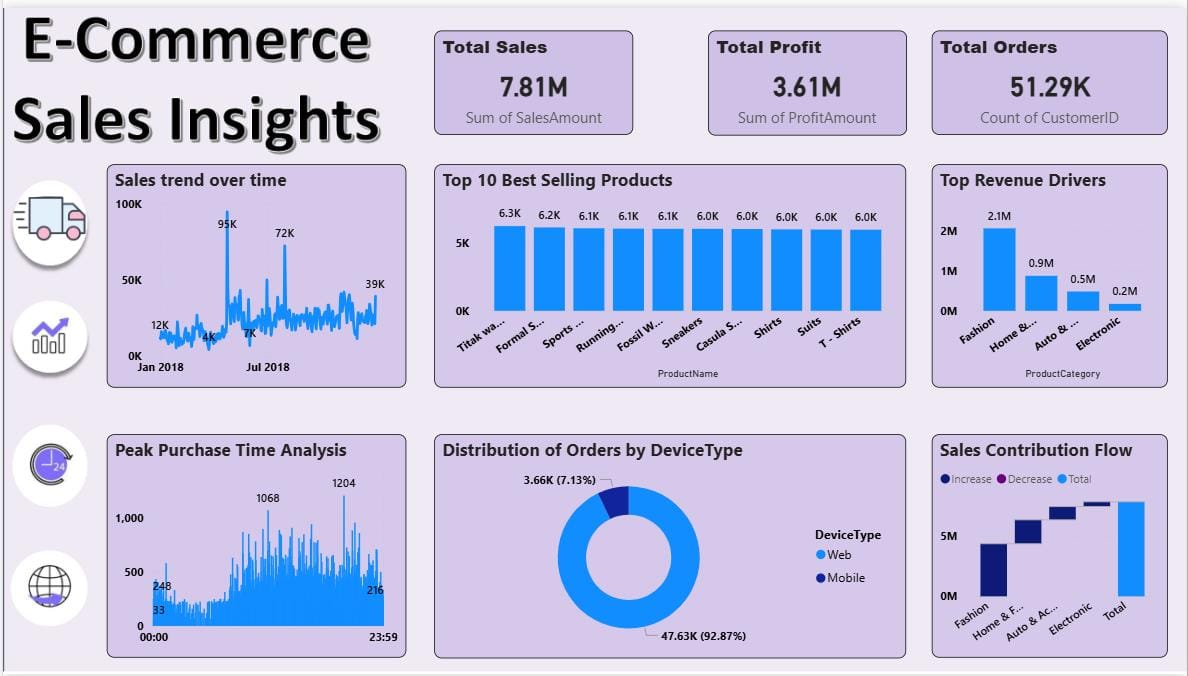

The page's visual inventory and layout, read from the dashboard file:
{"tool":"powerbi","page":{"name":"Page 1","canvas":[1280,720],"ordinal":0},"visuals":[{"type":"card","title":"Total Sales","fields":{"Values":["Sum(E-commerce Dataset(1).SalesAmount)"]},"box":[466.6,24.7,215.4,112.5],"z":0},{"type":"card","title":"Total Profit","fields":{"Values":["Sum(E-commerce Dataset(1).ProfitAmount)"]},"box":[762.5,24.3,215,113.6],"z":1000},{"type":"card","title":"Total Orders","fields":{"Values":["CountNonNull(E-commerce Dataset(1).CustomerID)"]},"box":[1004.5,24.7,255.2,112.5],"z":2000},{"type":"lineChart","title":"Sales trend over time","fields":{"Y":["Sum(E-commerce Dataset(1).SalesAmount)"],"Category":["E-commerce Dataset(1).OrderDate.Variation.Date Hierarchy.Year","E-commerce Dataset(1).OrderDate.Variation.Date Hierarchy.Quarter","E-commerce Dataset(1).OrderDate.Variation.Date Hierarchy.Month","E-commerce Dataset(1).OrderDate.Variation.Date Hierarchy.Day"]},"box":[112.5,168.8,323.8,241.5],"z":3000},{"type":"columnChart","title":"Peak Purchase Time Analysis","fields":{"Category":["E-commerce Dataset(1).Time"],"Y":["Sum(E-commerce Dataset(1).SalesAmount)"]},"box":[112.5,461.1,323.8,241.5],"z":4000},{"type":"columnChart","title":"Top 10 Best Selling Products","fields":{"Category":["E-commerce Dataset(1).ProductName"],"Y":["E-commerce Dataset(1).Quantity"]},"box":[466.6,168.8,510.5,241.5],"z":5000},{"type":"columnChart","title":"Top Revenue Drivers","fields":{"Category":["E-commerce Dataset(1).ProductCategory"],"Y":["Sum(E-commerce Dataset(1).ProfitAmount)"]},"box":[1004.5,168.8,255.2,241.5],"z":6000},{"type":"waterfallChart","title":"Sales Contribution Flow","fields":{"Category":["E-commerce Dataset(1).ProductCategory"],"Y":["E-commerce Dataset(1).SumSales"]},"box":[1004.5,461.1,255.2,241.5],"z":7000},{"type":"donutChart","title":"Distribution of Orders by DeviceType","fields":{"Category":["E-commerce Dataset(1).DeviceType"],"Y":["CountNonNull(E-commerce Dataset(1).CustomerID)"]},"box":[467,461,510,242],"z":8000}]}

Visuals, with their boxes in screenshot pixels (x1, y1, x2, y2), scaled from the page's 1280x720 canvas onto the 1188x676 screenshot:
"Total Sales" card: 433, 23, 633, 129
"Total Profit" card: 708, 23, 907, 129
"Total Orders" card: 932, 23, 1169, 129
"Sales trend over time" lineChart: 104, 158, 405, 385
"Peak Purchase Time Analysis" columnChart: 104, 433, 405, 660
"Top 10 Best Selling Products" columnChart: 433, 158, 907, 385
"Top Revenue Drivers" columnChart: 932, 158, 1169, 385
"Sales Contribution Flow" waterfallChart: 932, 433, 1169, 660
"Distribution of Orders by DeviceType" donutChart: 433, 433, 907, 660
